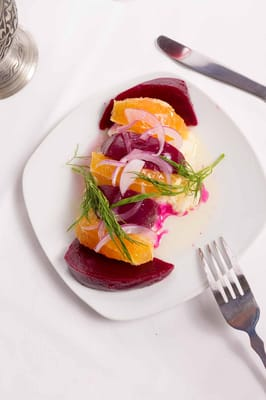burger: (198, 235, 265, 366), (199, 235, 260, 336)
salad: (155, 35, 266, 101)
sandwich: (155, 35, 266, 102)
taco: (111, 97, 189, 136)
